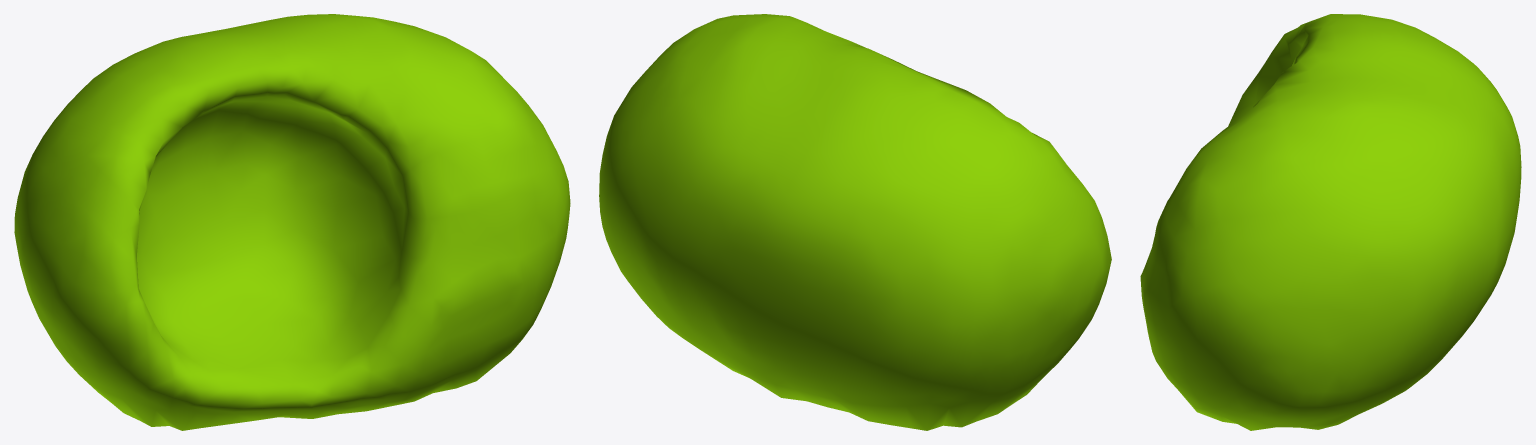
The model's file is Chair1.fbx.
The picture shows the model from 3 angles, left to right: view 1: azimuth 30°, elevation 25°; view 2: azimuth 150°, elevation 25°; view 3: azimuth 270°, elevation 25°; orthographic projection. The views are drawn at different scales.
Parts seen in each view (by area): view 1: Cube.003; view 2: Cube.003; view 3: Cube.003.
Part boxes in pixels (<box>): Cube.003: <box>14,14,570,430</box>; Cube.003: <box>599,14,1111,430</box>; Cube.003: <box>1140,14,1521,430</box>.
Size of the model in its own units: 1049 by 656 by 756.
